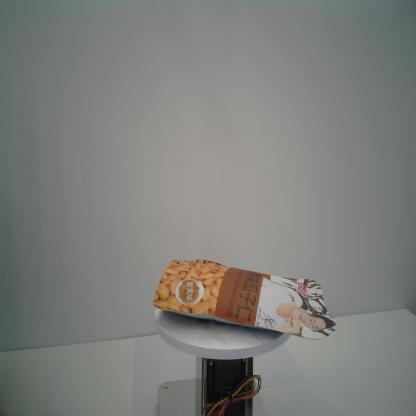Dried Fruit: (153, 258, 338, 340)
